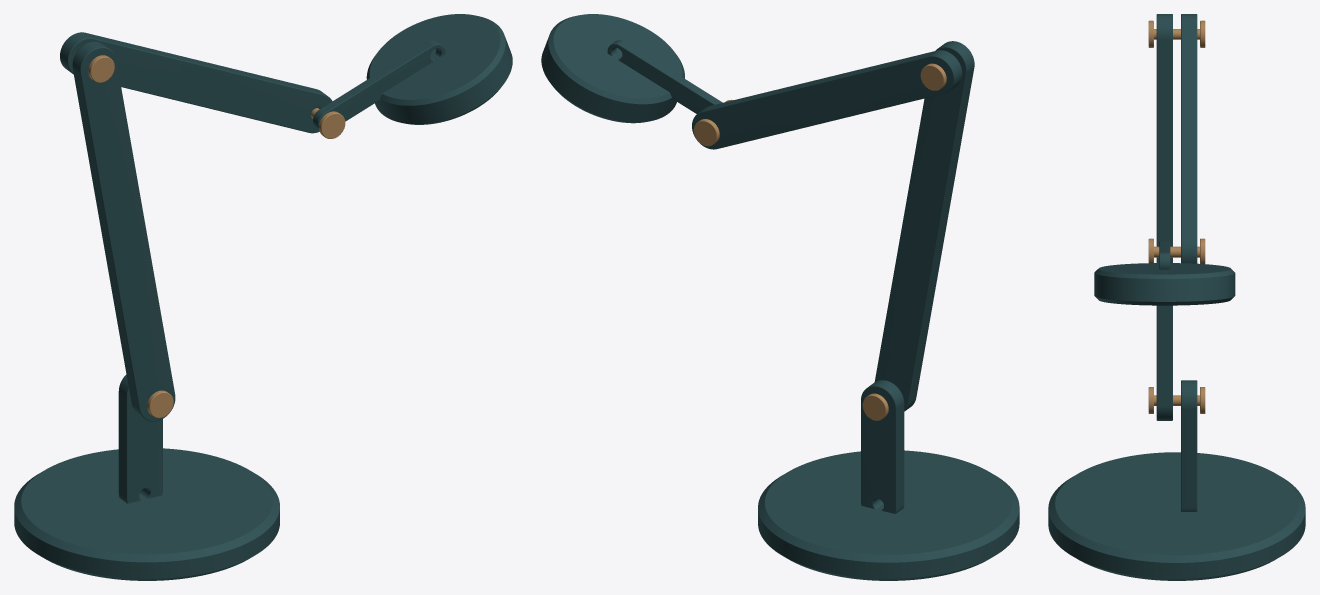
3 views of the same model, side by side, from view 1: azimuth 30°, elevation 25°; view 2: azimuth 150°, elevation 25°; view 3: azimuth 270°, elevation 25° (orthographic). The views are drawn at different scales.
Visible parts, largest first — view 1: Base body, Lower arm, Head housing, Upper arm, Fixed upright, Head neck; view 2: Base body, Lower arm, Upper arm, Head housing, Fixed upright, Head neck; view 3: Base body, Lower arm, Head housing, Upper arm, Fixed upright, Head neck.
Boxes of the visible parts, x1,y1,x2,y2 form: Base body: (14,448,279,580); Lower arm: (72,41,175,421); Head housing: (366,14,512,124); Upper arm: (60,32,332,133); Fixed upright: (118,374,162,503); Head neck: (313,40,445,128); Base body: (758,450,1019,580); Lower arm: (874,41,974,411); Upper arm: (692,50,962,149); Head housing: (541,14,684,123); Fixed upright: (861,380,904,513); Head neck: (607,40,722,113); Base body: (1048,452,1305,580); Lower arm: (1156,14,1172,420); Head housing: (1094,263,1235,305); Upper arm: (1181,14,1197,263); Fixed upright: (1181,380,1197,511); Head neck: (1159,241,1170,269).
Bounding box in the file's own units: 0.383 × 0.4007 × 0.19.
